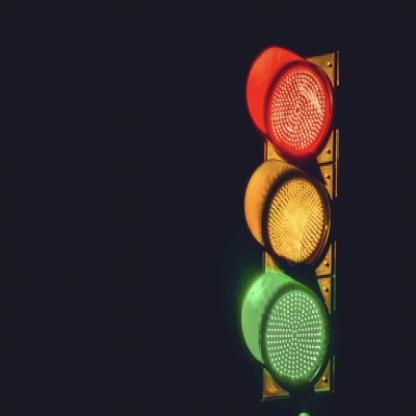trafficlight: (230, 37, 350, 413)
